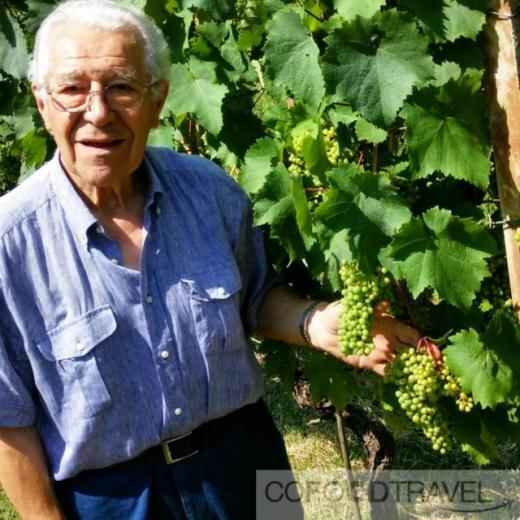Orange: (384, 348, 476, 455), (338, 256, 405, 357), (478, 258, 512, 303), (325, 126, 344, 164), (289, 135, 305, 175)
